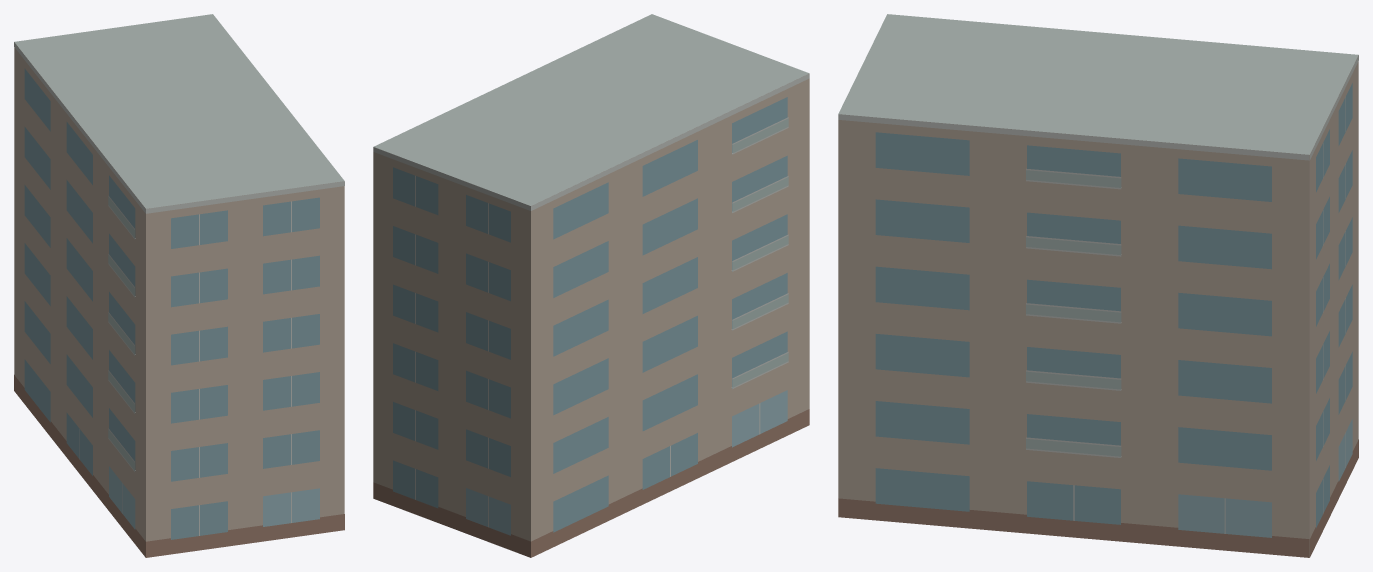
Rendered from survey-upis-32980288.glb.
The picture shows the model from 3 angles, left to right: view 1: azimuth 30°, elevation 25°; view 2: azimuth 150°, elevation 25°; view 3: azimuth 270°, elevation 25°; orthographic projection. The views are drawn at different scales.
Visible parts, largest first — view 1: survey-upis-32980288.tmp; view 2: survey-upis-32980288.tmp; view 3: survey-upis-32980288.tmp.
Boxes of the visible parts, <box> form: survey-upis-32980288.tmp: <box>14,14,344,557</box>; survey-upis-32980288.tmp: <box>373,14,809,557</box>; survey-upis-32980288.tmp: <box>838,14,1358,557</box>.
Bounding box in the file's own units: 12.9 × 17.2 × 20.14.
